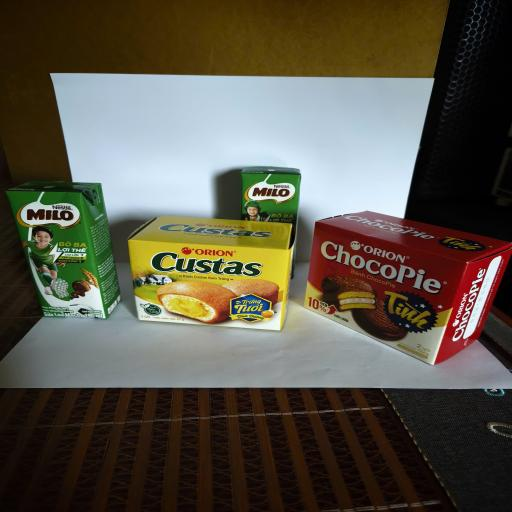chocopie: (303, 210, 512, 365)
custas: (128, 216, 296, 330)
milo: (5, 181, 121, 319), (240, 166, 302, 234)
